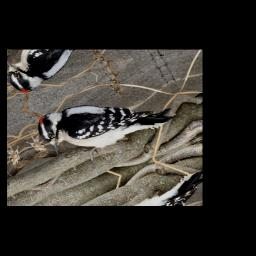Woodpecker: (31, 67, 178, 175)
